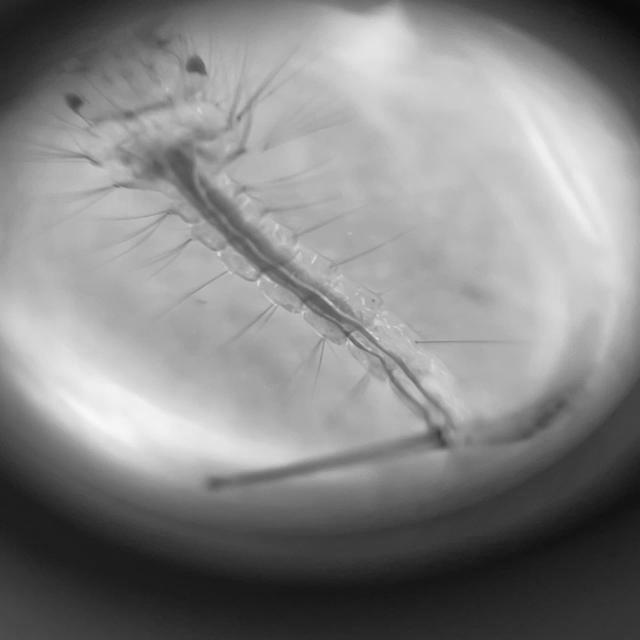larvas: (73, 32, 472, 453)
